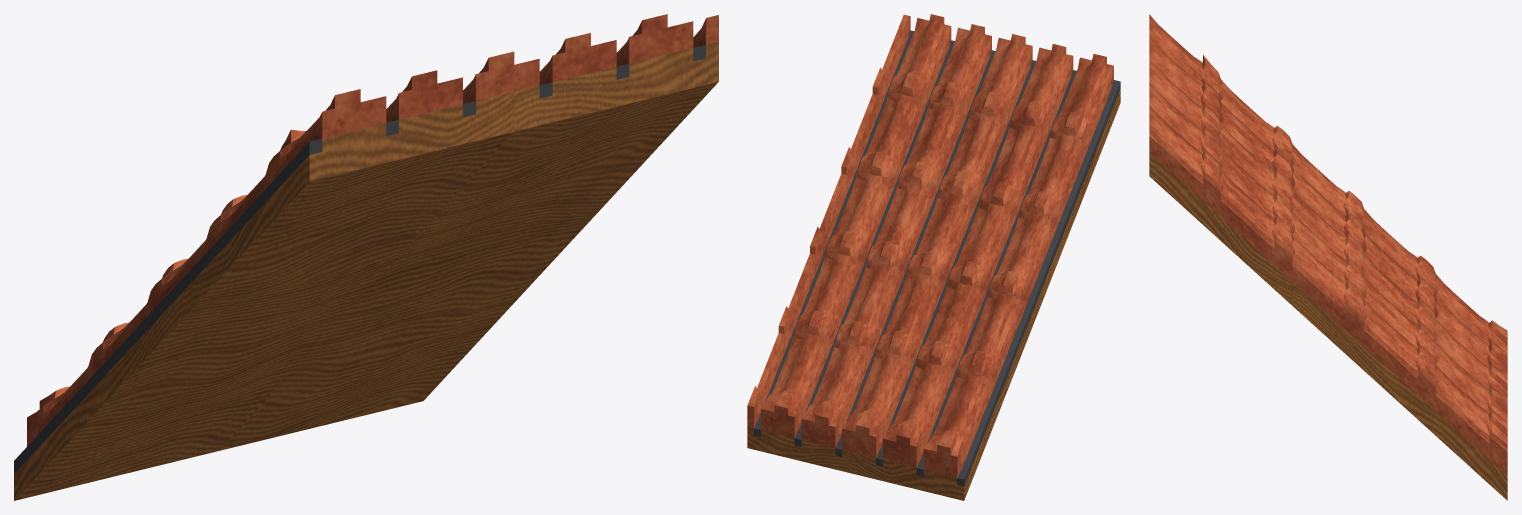
Rendered from roof_clay.glb.
The picture shows the model from 3 angles, left to right: view 1: azimuth 30°, elevation 25°; view 2: azimuth 150°, elevation 25°; view 3: azimuth 270°, elevation 25°; orthographic projection. The views are drawn at different scales.
Visible parts, largest first — view 1: town_roof_clay; view 2: town_roof_clay; view 3: town_roof_clay.
Boxes of the visible parts, left/top/right/bottom form: town_roof_clay: left=14, top=14, right=718, bottom=500; town_roof_clay: left=747, top=14, right=1120, bottom=500; town_roof_clay: left=1149, top=14, right=1507, bottom=500.
Bounding box in the file's own units: 1 × 1.44 × 1.25.
2 materials, 1 textured.
